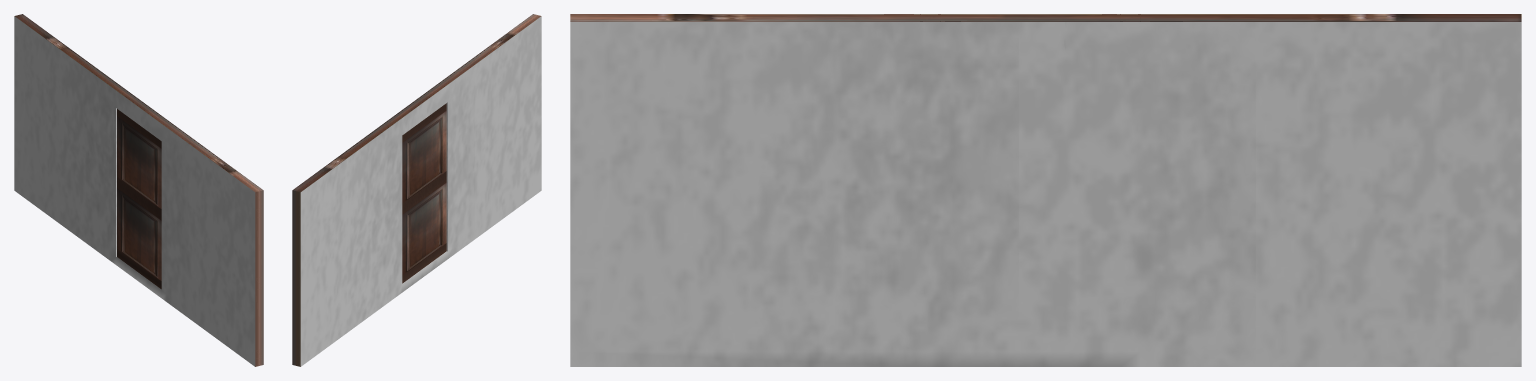
File: DoorWall.FBX
The picture shows the model from 3 angles, left to right: view 1: azimuth 30°, elevation 25°; view 2: azimuth 150°, elevation 25°; view 3: azimuth 270°, elevation 25°; orthographic projection. The views are drawn at different scales.
Parts seen in each view (by area): view 1: DoorSection; view 2: DoorSection; view 3: DoorSection.
Part boxes in pixels (<box>): DoorSection: <box>14,14,263,366</box>; DoorSection: <box>292,14,541,366</box>; DoorSection: <box>570,14,1521,366</box>.
Size of the model in its own units: 19.69 by 394 by 984.
